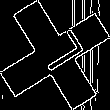L_SW: (26, 28, 84, 82)
